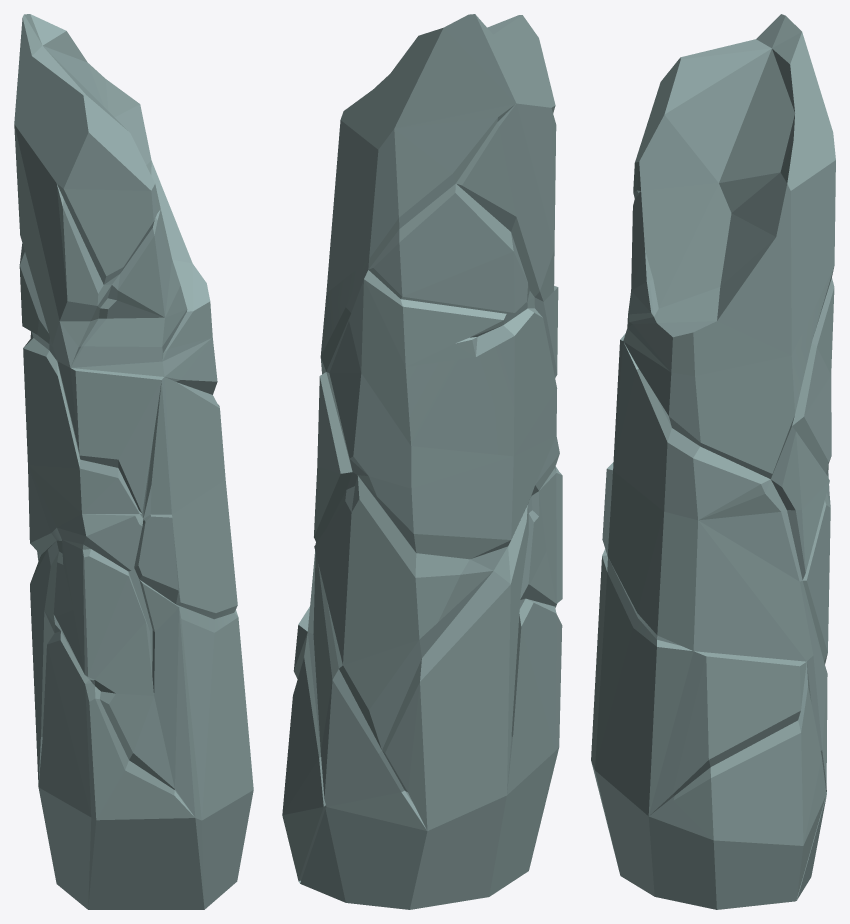
The model's file is enemy_broken_crystal_.fbx.
3 renders of one model, left to right at view 1: azimuth 30°, elevation 25°; view 2: azimuth 150°, elevation 25°; view 3: azimuth 270°, elevation 25°, orthographic. The views are drawn at different scales.
Parts seen in each view (by area): view 1: broken_crystal; view 2: broken_crystal; view 3: broken_crystal.
Part boxes in pixels (<box>): broken_crystal: <box>14,14,253,909</box>; broken_crystal: <box>282,14,562,909</box>; broken_crystal: <box>591,14,835,909</box>.
Size of the model in its own units: 2142 by 8255 by 2245.
